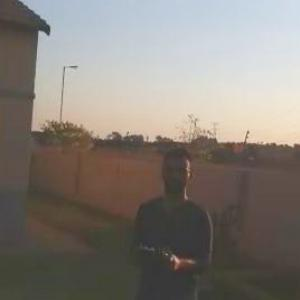follow: (123, 144, 216, 299)
